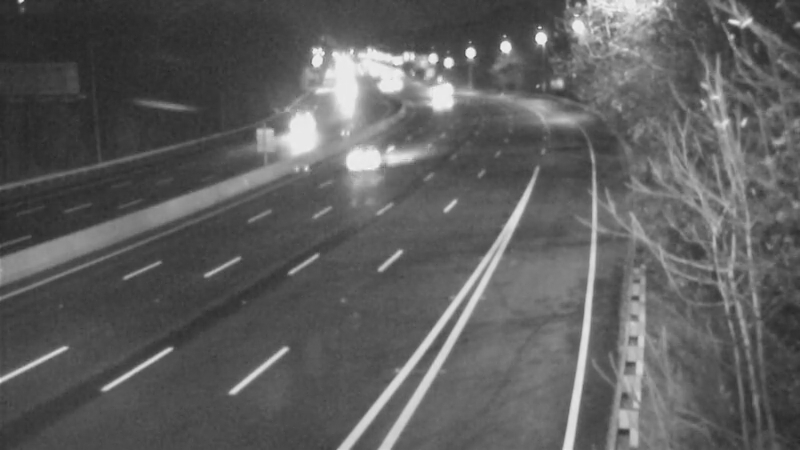vehicle: (325, 118, 405, 198), (416, 76, 466, 126), (267, 115, 317, 165)
